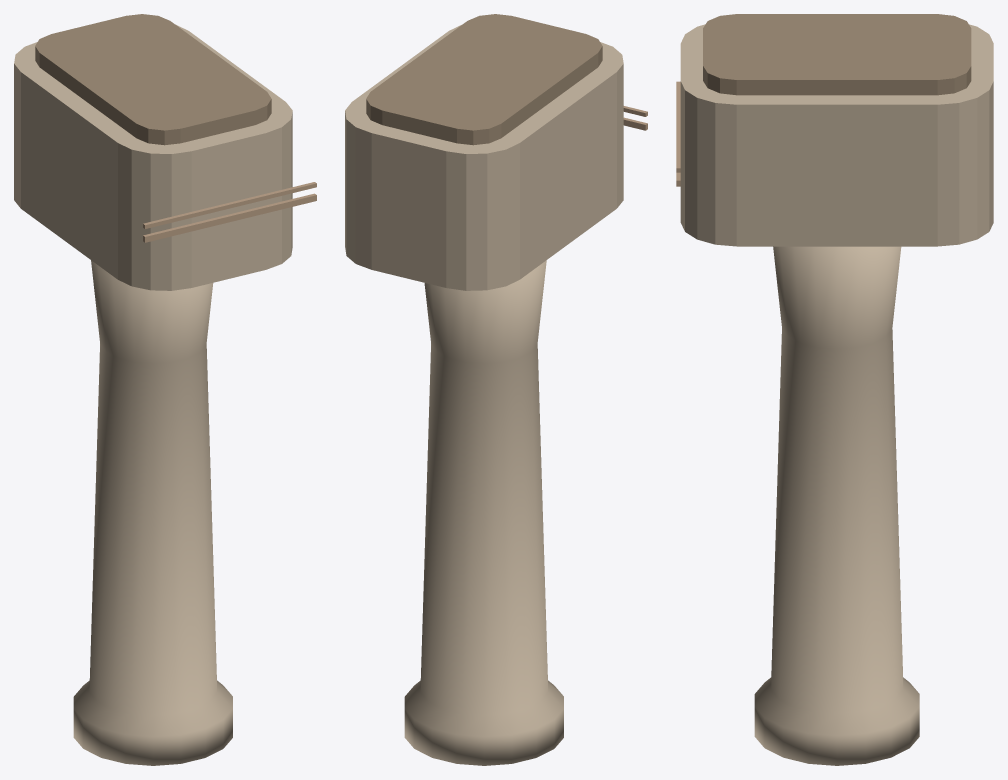
The model's file is city_rail_pier.glb.
The picture shows the model from 3 angles, left to right: view 1: azimuth 30°, elevation 25°; view 2: azimuth 150°, elevation 25°; view 3: azimuth 270°, elevation 25°; orthographic projection. The views are drawn at different scales.
Visible parts, largest first — view 1: CityRailPier_Column, CityRailPier_Capital, CityRailPier_Bearing, CityRailPier_Strata0, CityRailPier_Strata1; view 2: CityRailPier_Column, CityRailPier_Capital, CityRailPier_Bearing; view 3: CityRailPier_Column, CityRailPier_Capital, CityRailPier_Bearing.
Part boxes in pixels (x1=…): CityRailPier_Column: x1=73, y1=260, x2=232, y2=765; CityRailPier_Capital: x1=14, y1=24, x2=292, y2=290; CityRailPier_Bearing: x1=35, y1=14, x2=271, y2=145; CityRailPier_Strata0: x1=143, y1=193, x2=316, y2=242; CityRailPier_Strata1: x1=143, y1=182, x2=316, y2=228; CityRailPier_Column: x1=404, y1=260, x2=563, y2=765; CityRailPier_Capital: x1=345, y1=25, x2=623, y2=290; CityRailPier_Bearing: x1=366, y1=14, x2=602, y2=145; CityRailPier_Column: x1=754, y1=246, x2=919, y2=765; CityRailPier_Capital: x1=680, y1=24, x2=993, y2=246; CityRailPier_Bearing: x1=703, y1=14, x2=971, y2=95.
Bounding box in the file's own units: 1.84 × 6.75 × 2.84.
